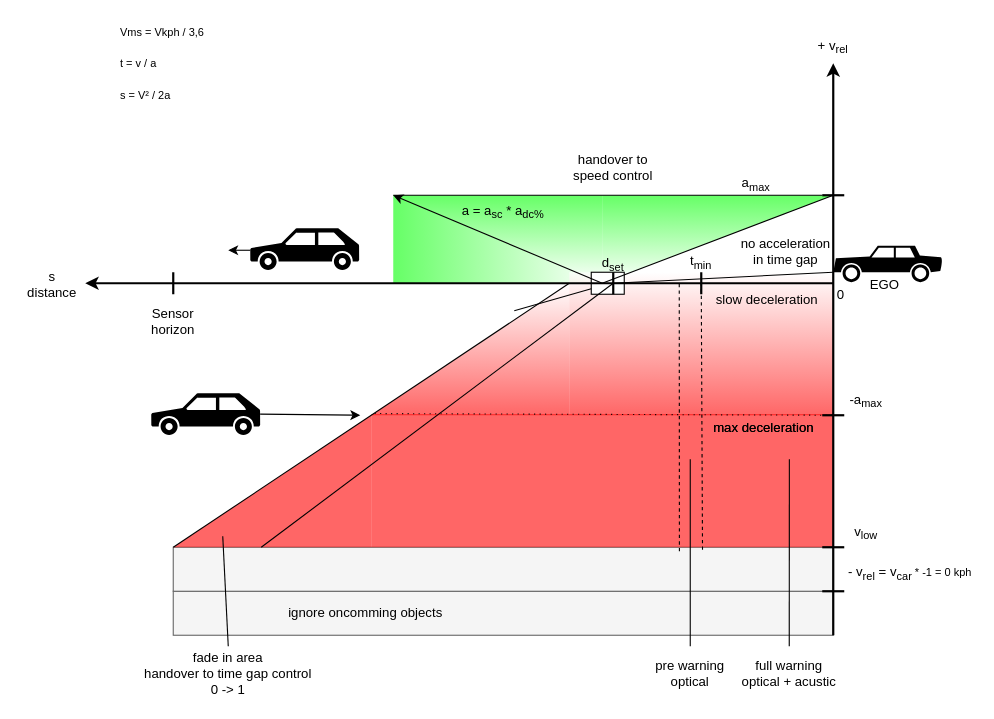
Some shapes in this 994 by 719 pixel diagram are drawn without their labels. The shapes that lost their labels are listed below. From the top down, each one's centre as x and y in pixels, then its label:
At [470,349]: "sweet spot".
At [502,568]: "ignore standing objects".
